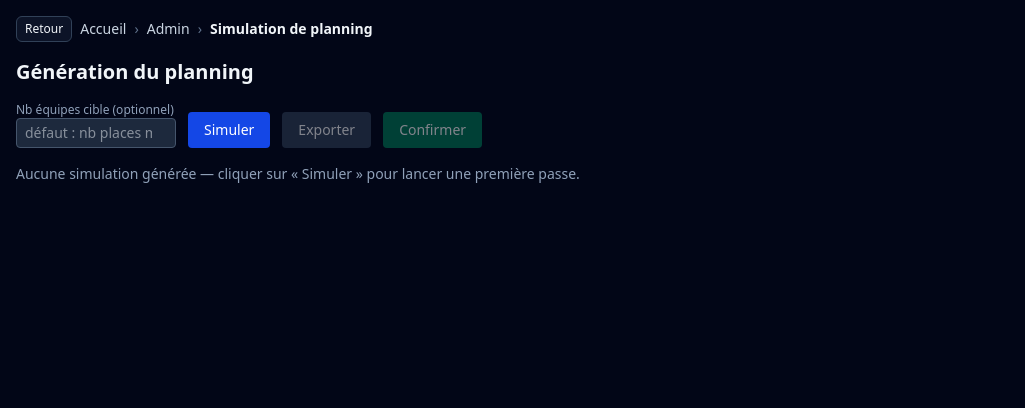
Test: PlanningSimulationPage › confirme le planning et affiche le récapitulatif de confirmation
The width and height of the screenshot is (1025, 408).
Click the button "Simuler".
click(229, 130)  # box [188,112,270,148]
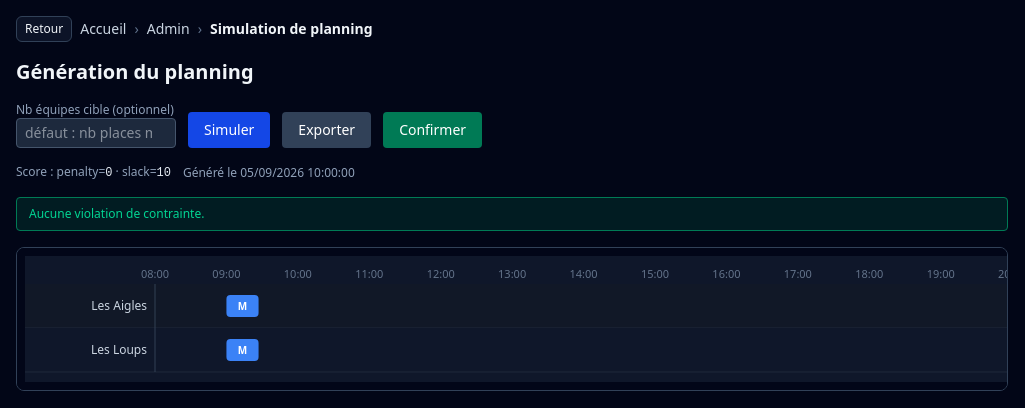
Expected: the text "Les Aigles" is shown, [91,297,147,314]
Click the button "Confirmer".
click(433, 130)  # box [383,112,482,148]
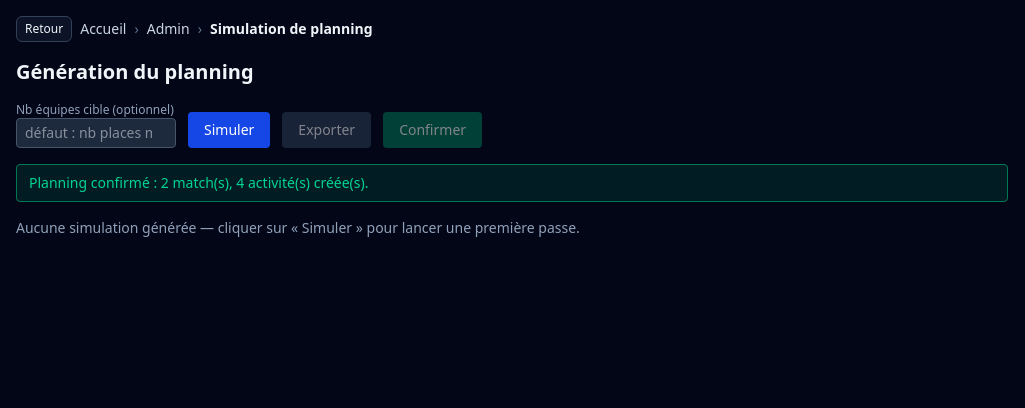
Expected: the text "Planning confirmé : 2 match(s), 4 activité(s) créée(s)." is shown, [16,164,1008,202]
